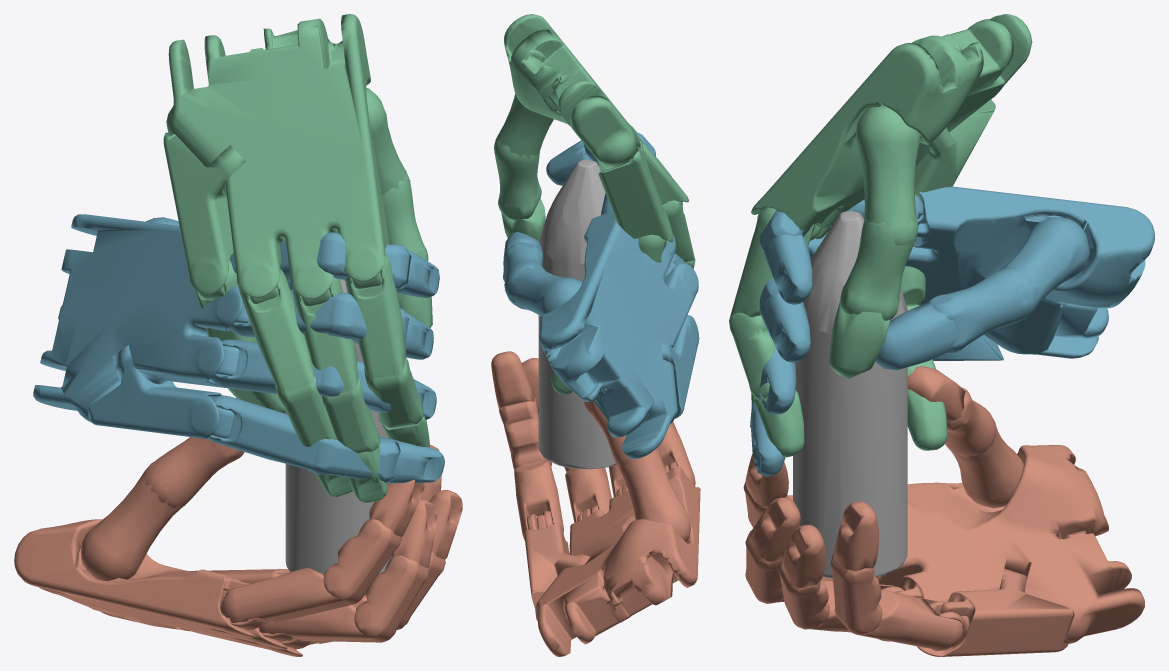
3 renders of one model, left to right at view 1: azimuth 30°, elevation 25°; view 2: azimuth 150°, elevation 25°; view 3: azimuth 270°, elevation 25°, orthographic. The views are drawn at different scales.
Size of the model in its own units: 0.1554 by 0.2884 by 0.1706.
